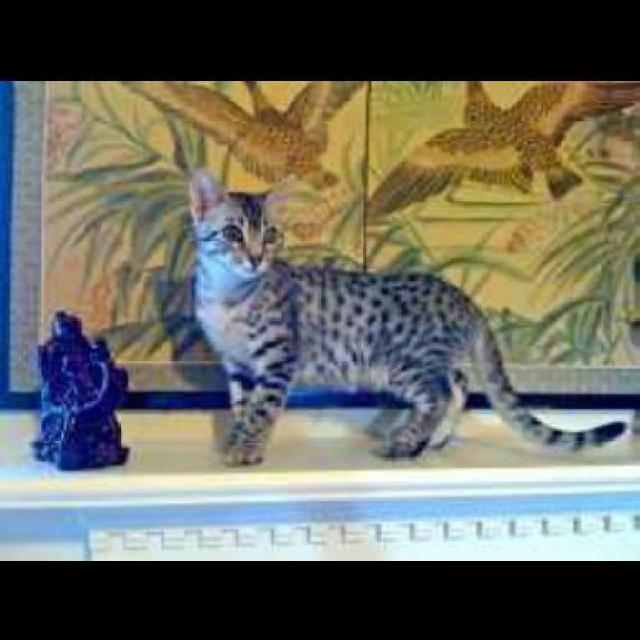unauthorized: (186, 166, 628, 466)
